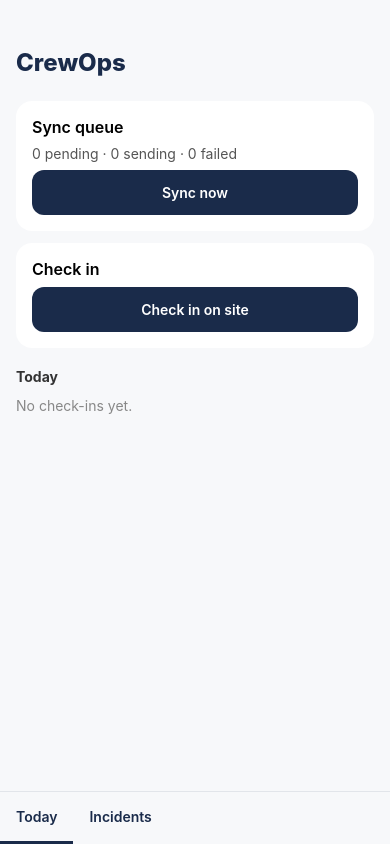
Test: App › checking in queues a mutation and shows it as pending
Click the element labelled "Check in on site" at {"x": 195, "y": 310}, box top-left (32, 287), bottom-right (358, 332)
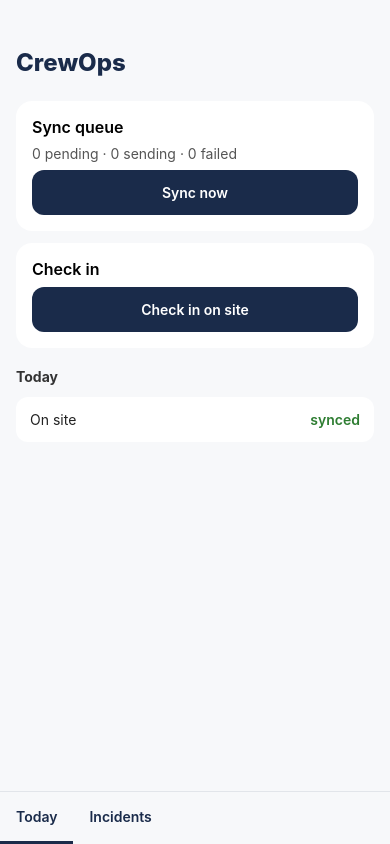
Expected: the text "On site" is shown, top-left (30, 411), bottom-right (76, 428)
Expected: the text "pending" is shown, top-left (310, 411), bottom-right (360, 428)
